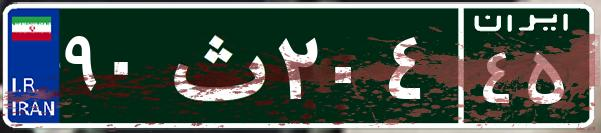0: (330, 28, 385, 110), (110, 28, 158, 105)
2: (273, 28, 330, 110)
4: (385, 28, 445, 110), (475, 38, 525, 113)
5: (525, 38, 570, 115)
9: (57, 26, 110, 107)
ث: (158, 15, 273, 115)
